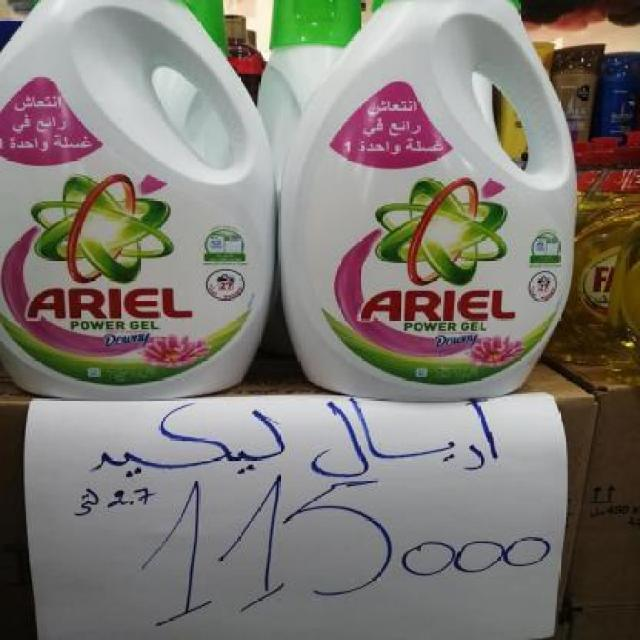Detergent: (277, 0, 561, 394), (0, 0, 271, 402)
